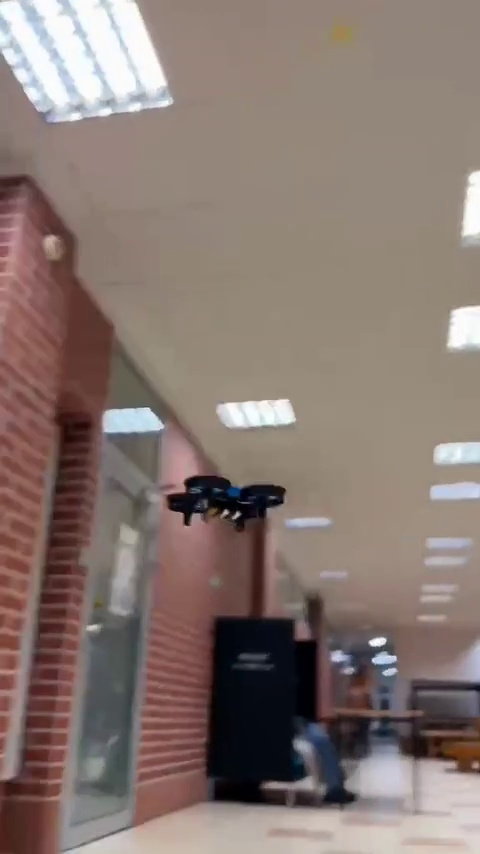drone: (162, 473, 295, 532)
